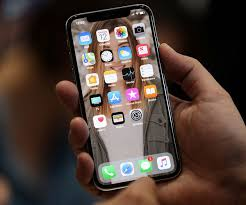iphone: (64, 3, 181, 191)
iphone10: (65, 3, 182, 191)
